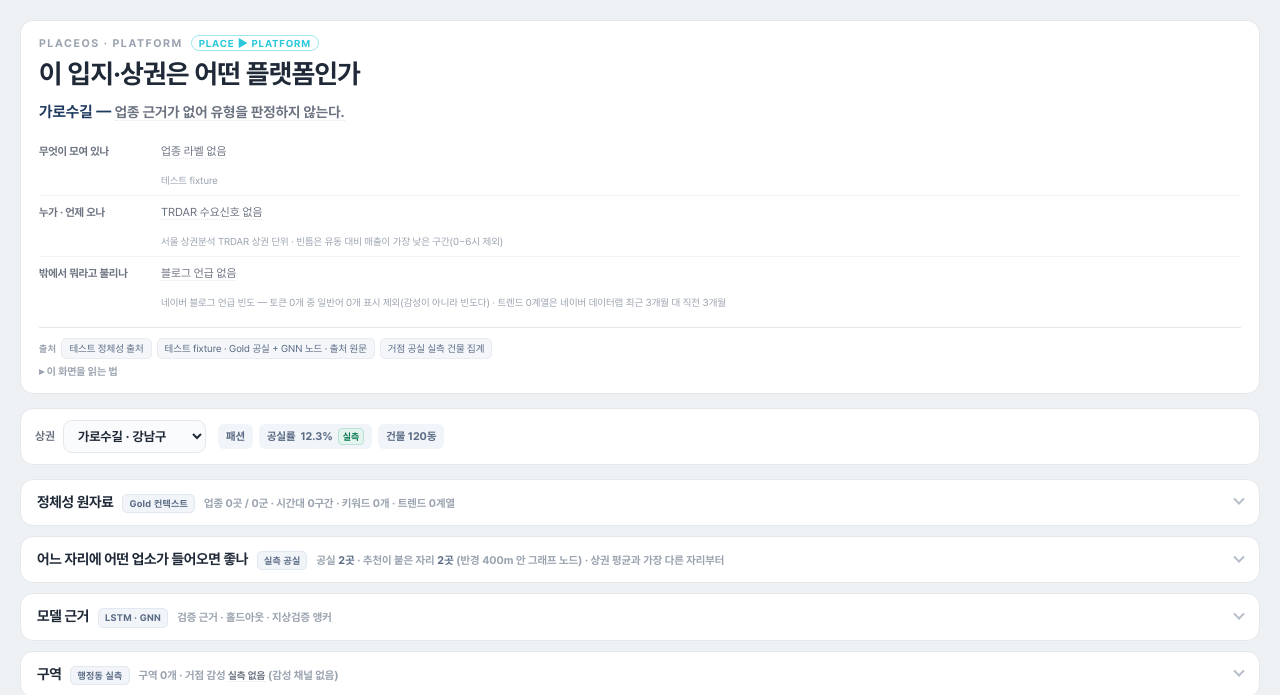
Scenario: PlatformConsole — 동일 상권 후보 비교 › 음수 차이는 공통 기준선 왼쪽에 그리고 성공 확률로 환산하지 않는다
What coordinates should you click on to do the following:
click the heading "어느 자리에 어떤 업소가 들어오면 좋나"
I would click on:
 (641, 560)
Its box is 37,550 -> 1245,570.
(page scrolled)
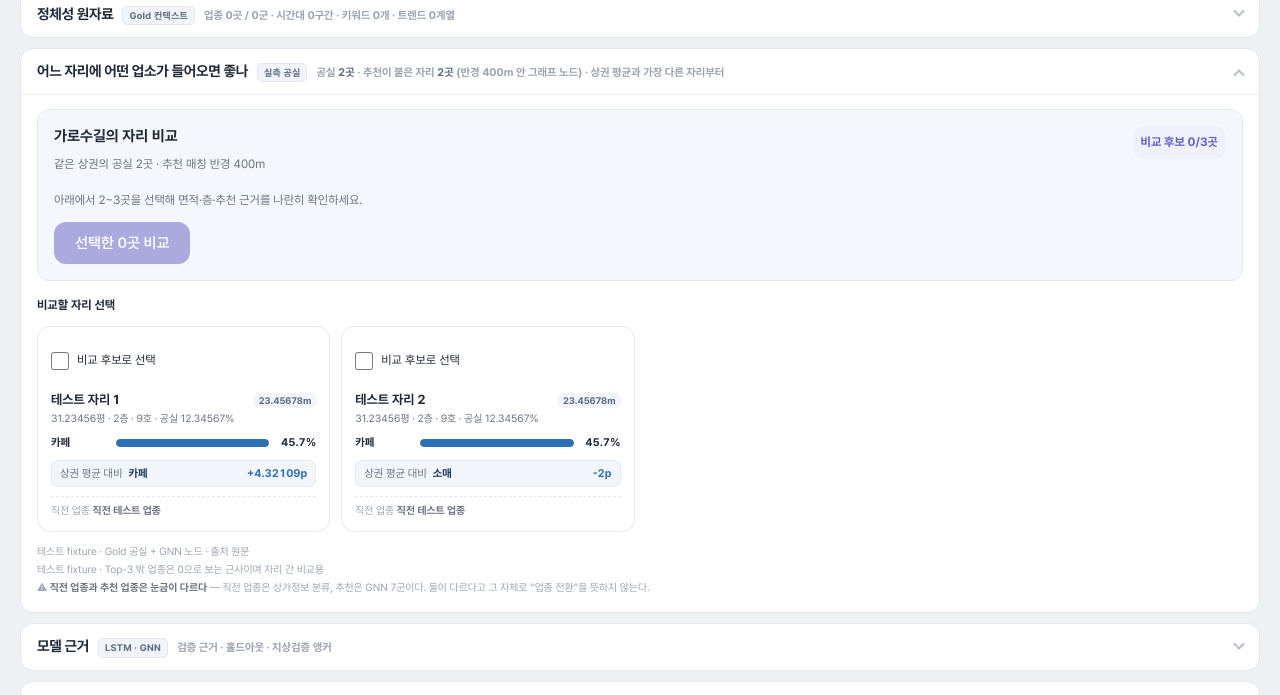
What coordinates should you click on to do the following:
click the 1st checkbox labelled "비교 후보로 선택"
I would click on:
 (60, 361)
Its box is 51,352 -> 69,370.
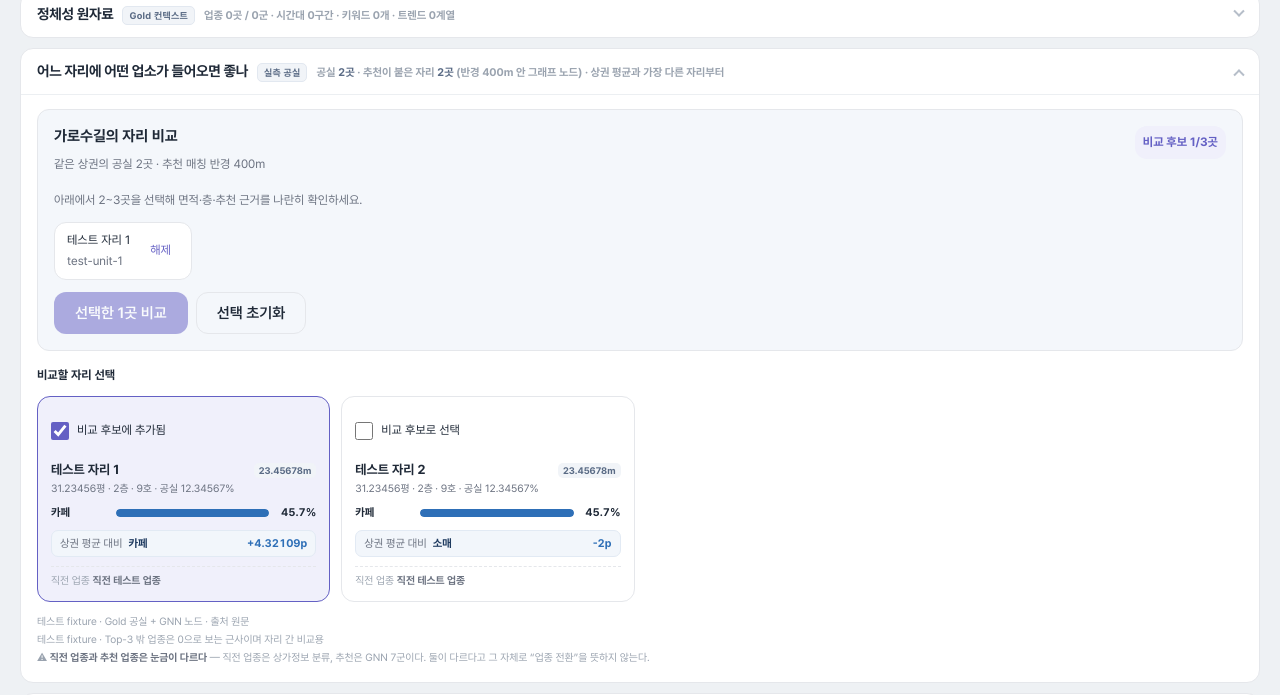
What coordinates should you click on to do the following:
click the checkbox labelled "비교 후보로 선택"
I would click on:
 (364, 431)
Its box is 355,422 -> 373,440.
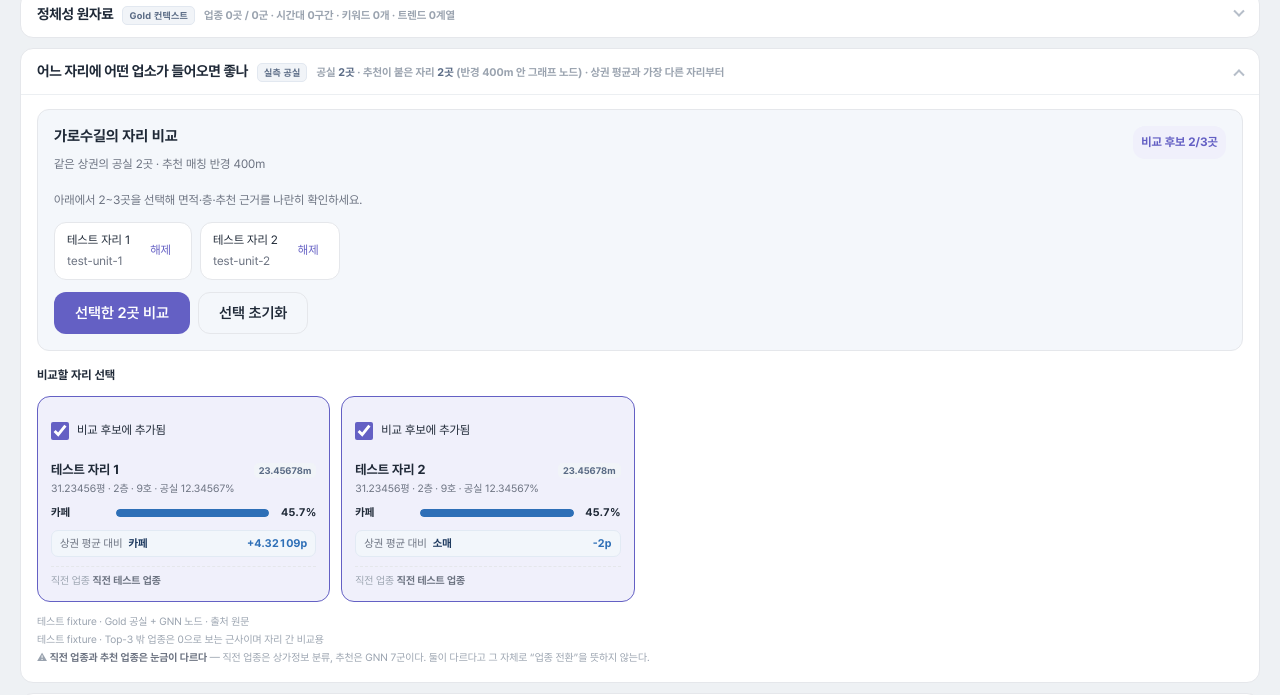
What coordinates should you click on to do the following:
click the button "선택한 2곳 비교"
I would click on:
 (122, 313)
Its box is 54,292 -> 190,334.
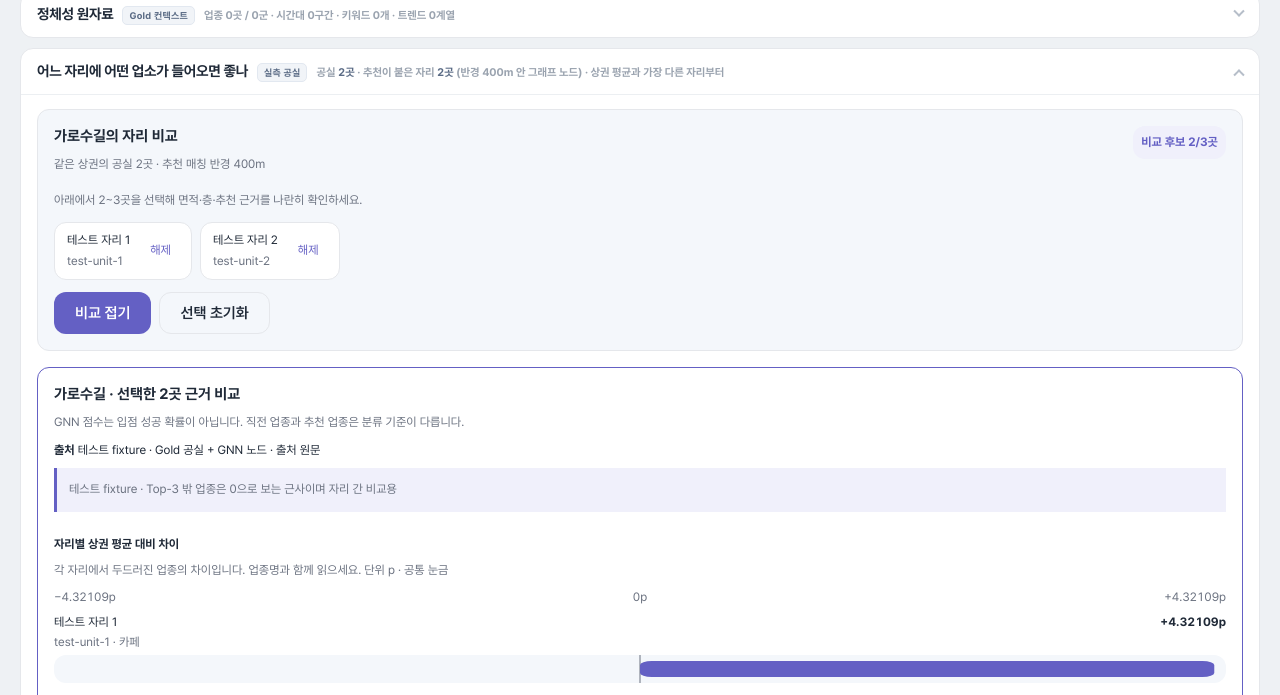
expect the text "GNN 점수는 입점 성공 확률이 아닙니다. 직전 업종과 추천 업종은 분류 기준이 다릅니다." is shown: met, box 54,415 -> 464,429
